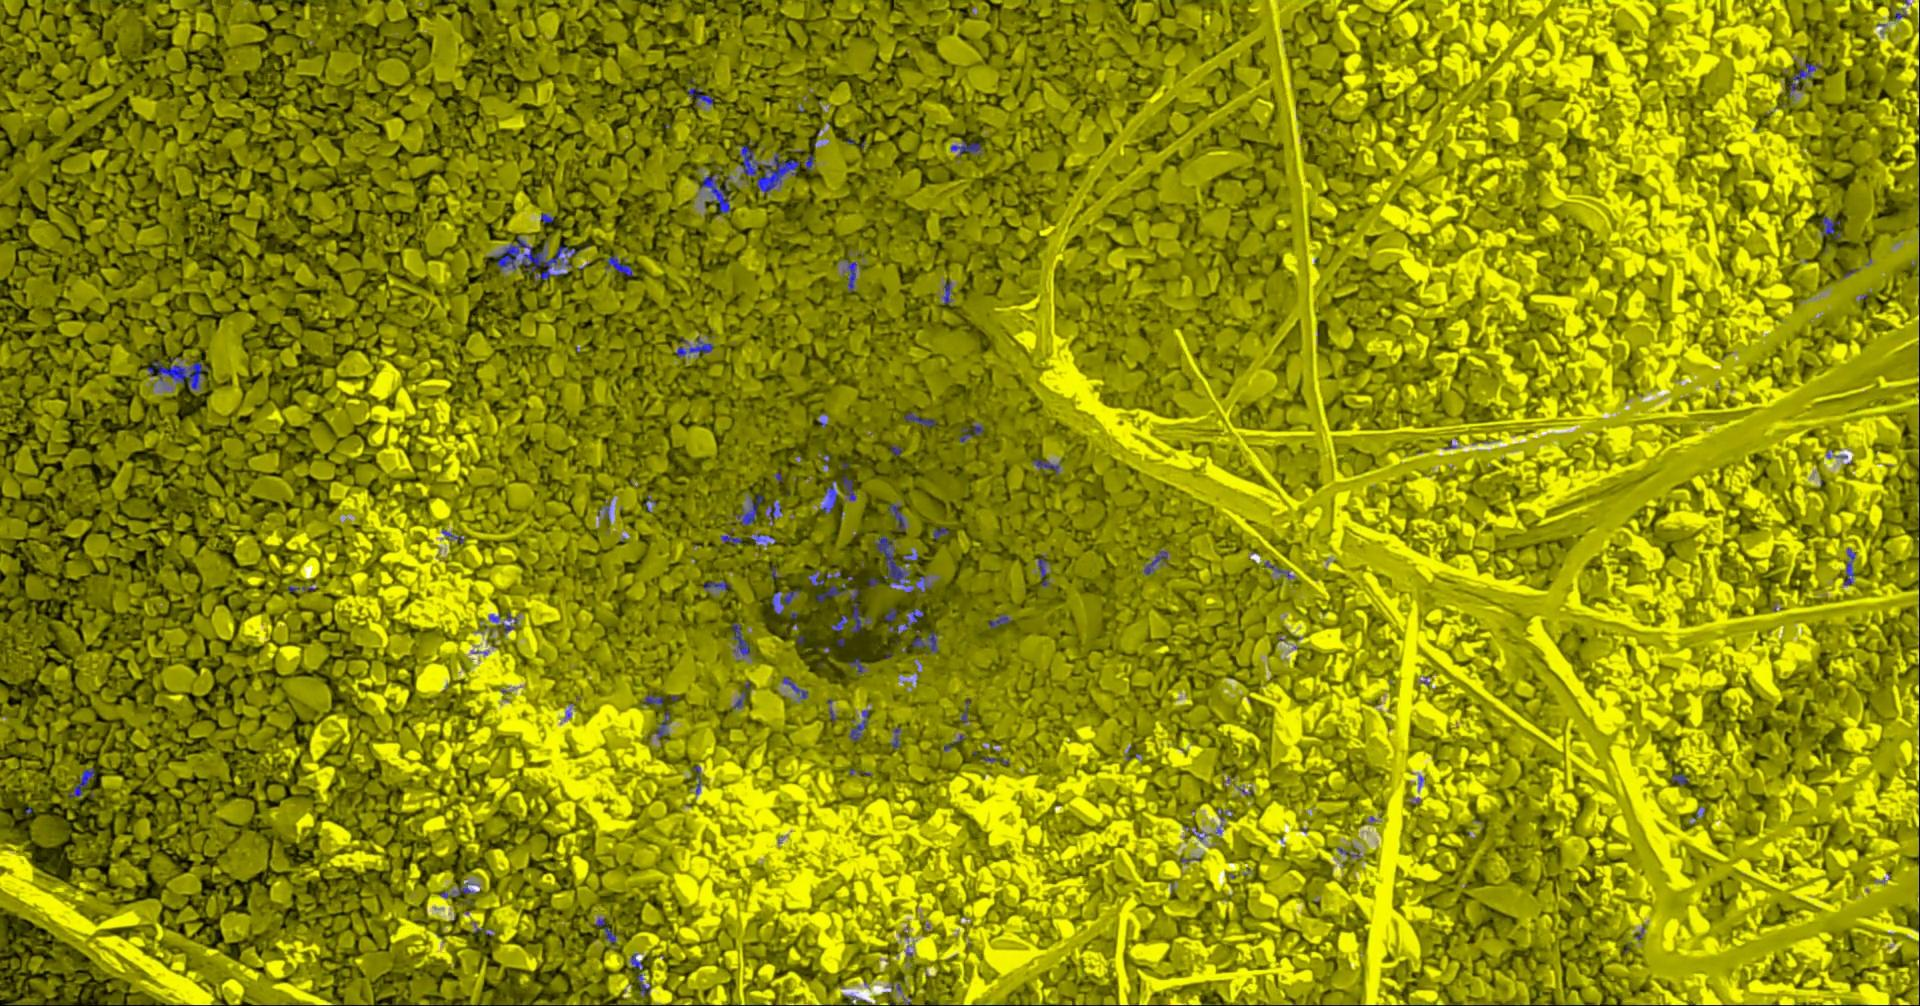ant: (875, 535, 916, 592), (146, 354, 207, 389), (830, 588, 871, 633), (756, 152, 799, 192), (698, 174, 731, 213), (1788, 64, 1821, 97), (884, 607, 923, 633), (735, 494, 762, 525), (676, 335, 712, 357), (770, 588, 799, 614), (69, 767, 94, 796), (739, 145, 758, 180), (848, 709, 869, 741), (1143, 550, 1167, 575), (604, 254, 632, 276), (731, 622, 749, 655), (817, 582, 847, 601), (782, 676, 808, 699), (910, 631, 937, 653), (593, 917, 615, 942), (820, 480, 837, 513), (731, 680, 750, 708), (903, 412, 936, 427), (439, 882, 472, 897), (1820, 215, 1841, 238), (888, 503, 905, 530), (1843, 547, 1855, 584), (950, 140, 980, 155), (688, 86, 712, 105), (957, 424, 983, 442), (655, 710, 670, 739), (1032, 459, 1059, 474), (842, 474, 855, 500), (636, 973, 650, 997), (1037, 554, 1048, 586), (988, 614, 1011, 627), (766, 499, 781, 520), (719, 533, 742, 546), (847, 657, 863, 673), (847, 260, 856, 291), (808, 570, 824, 586), (916, 575, 930, 593), (703, 580, 731, 589), (889, 727, 900, 748), (941, 281, 951, 304), (643, 694, 663, 705), (630, 951, 643, 969), (932, 526, 949, 539), (902, 553, 918, 563), (1671, 774, 1688, 784)
